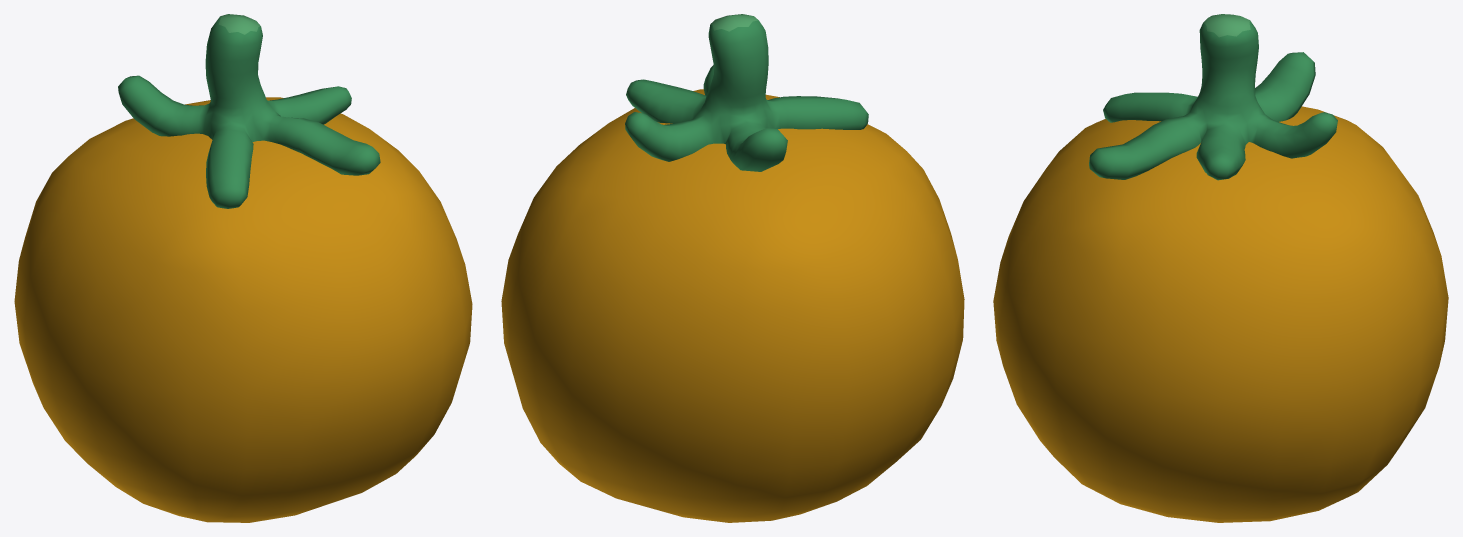
File: Tomato_03.dae
3 views of the same model, side by side, from view 1: azimuth 30°, elevation 25°; view 2: azimuth 150°, elevation 25°; view 3: azimuth 270°, elevation 25° (orthographic).
Visible parts, largest first — view 1: Tomato_03_LOD0; view 2: Tomato_03_LOD0; view 3: Tomato_03_LOD0.
Part boxes in pixels (box(x1,y1,x2,y2)): Tomato_03_LOD0: box(14, 14, 472, 522); Tomato_03_LOD0: box(501, 14, 964, 522); Tomato_03_LOD0: box(993, 14, 1448, 522).
Size of what is drawn, in the model's own units: 3.96 by 3.97 by 4.58.
